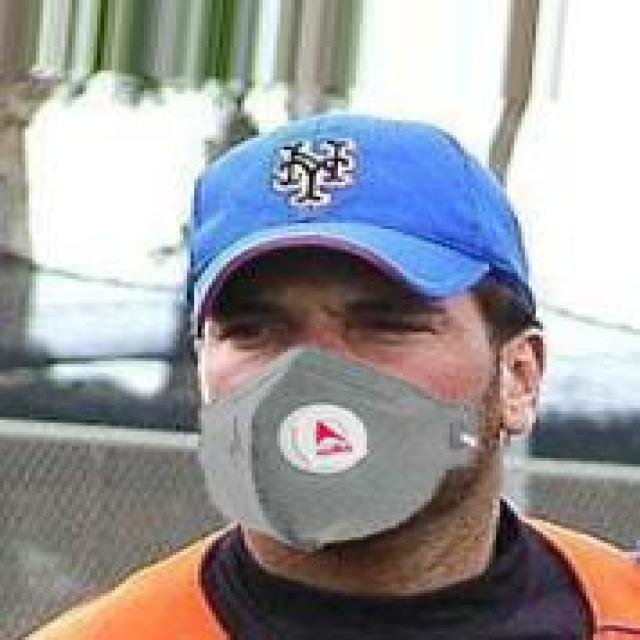mask: (180, 141, 564, 572)
